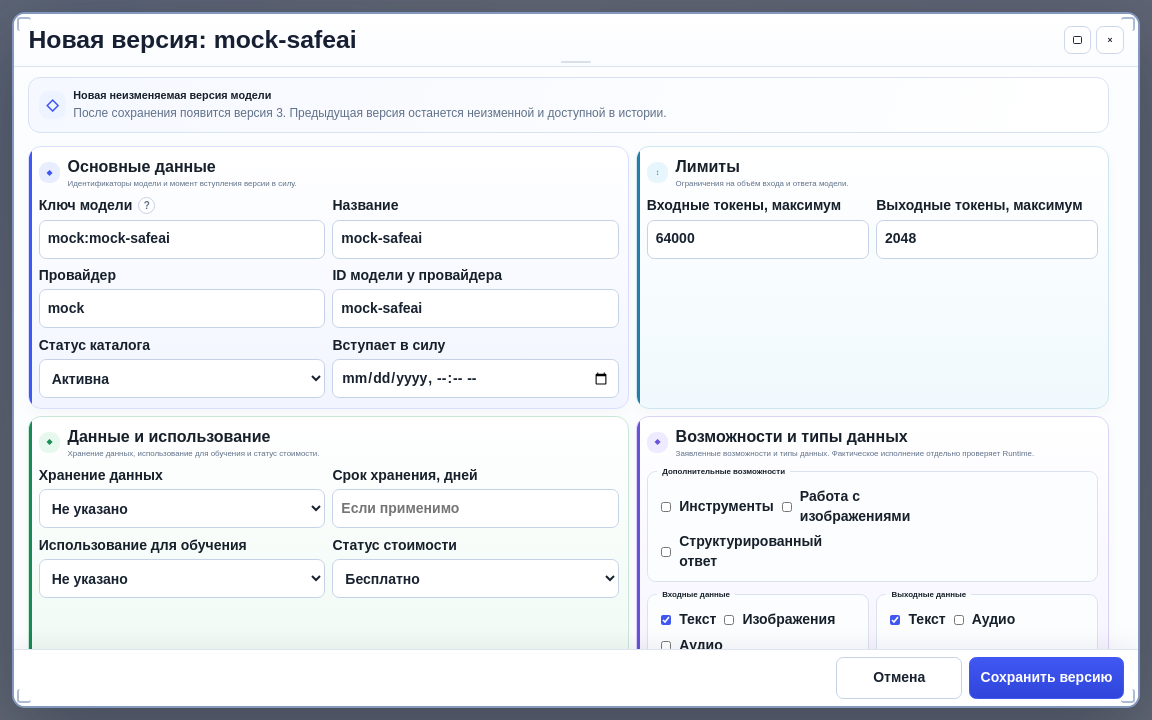
Test: ModelCatalogVersionModal version semantics › explains an existing key as a new version even from Create model
This screenshot has width=1152, height=720.
Expected: the text "После сохранения появится версия 3" is shown, [73,106,667,120]
Expected: the heading "Новая версия: mock-safeai" is shown, [28,24,357,56]
Replace the text in the field labelled "Ключ модели ?" with "mock:new-model": {"x": 182, "y": 239} [39,220,325,259]
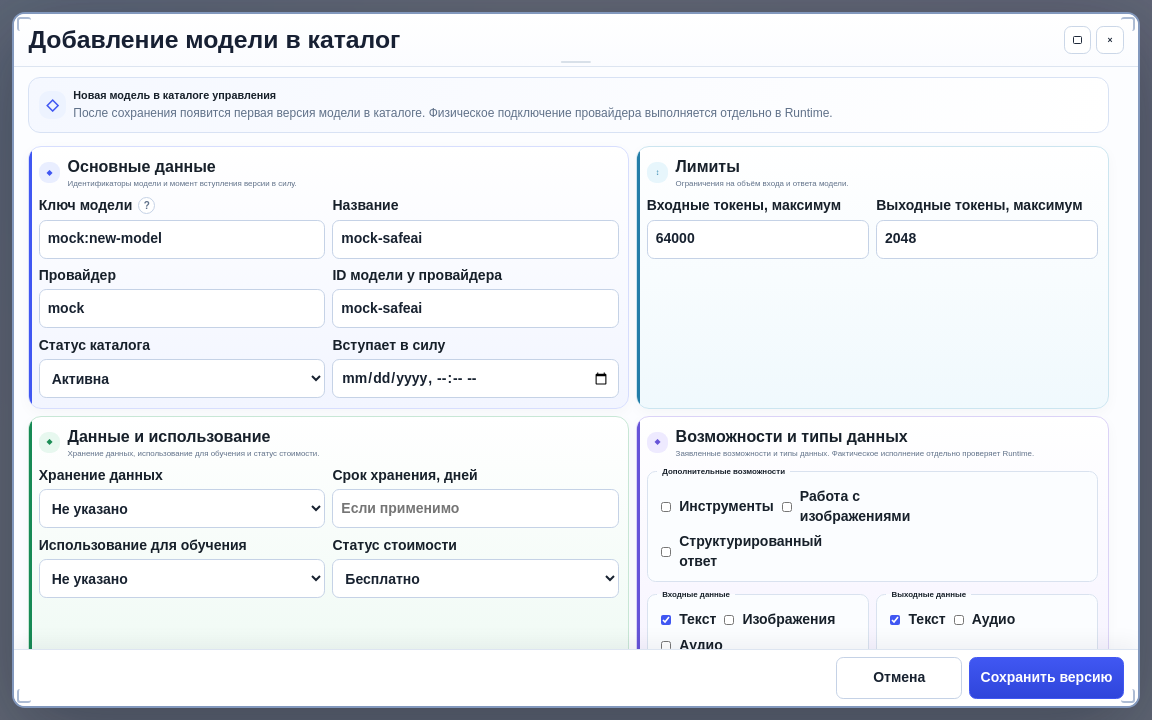
Now the text "После сохранения появится первая версия модели" is shown, box [73,106,833,120]
Now the heading "Добавление модели в каталог" is shown, box [28,24,400,56]
